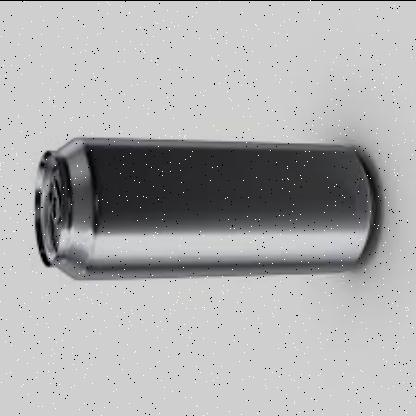Can: (35, 135, 375, 281)
